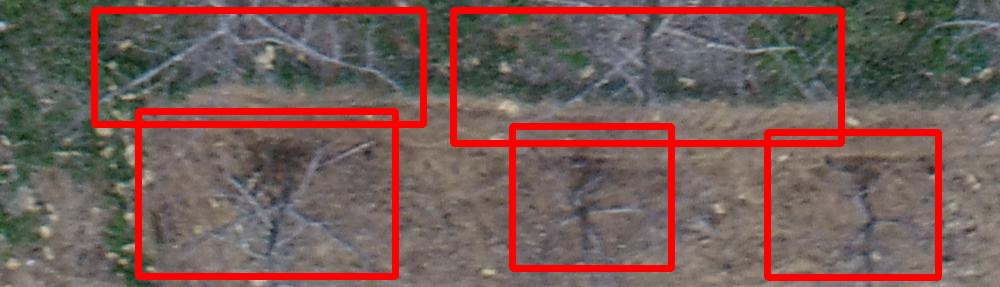apple: (453, 10, 841, 143), (138, 111, 395, 276), (94, 10, 423, 124), (767, 132, 938, 277), (512, 126, 671, 268)
